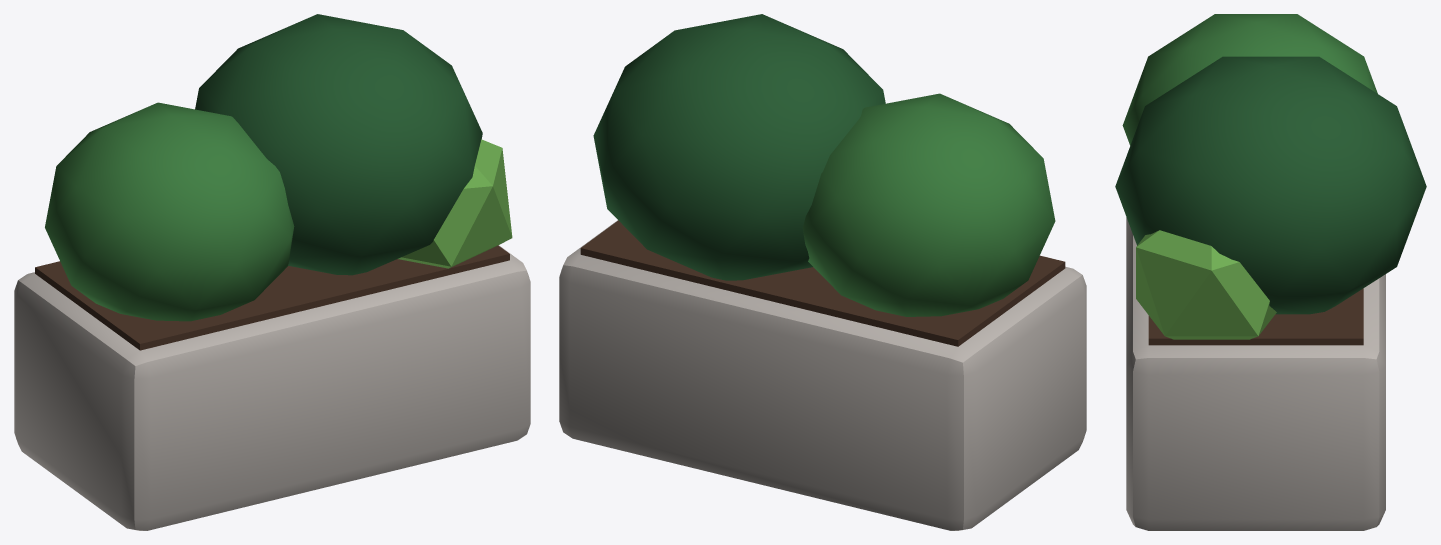
File: planter.glb
The picture shows the model from 3 angles, left to right: view 1: azimuth 30°, elevation 25°; view 2: azimuth 150°, elevation 25°; view 3: azimuth 270°, elevation 25°; orthographic projection. The views are drawn at different scales.
Visible parts, largest first — view 1: planter; view 2: planter; view 3: planter.
Part boxes in pixels (x1,y1,x2,y2): planter: [14, 14, 530, 530]; planter: [559, 14, 1086, 530]; planter: [1115, 14, 1426, 530].
Size of the model in its own units: 1.33 by 1.21 by 0.84.
Materials: 1 (1 with a texture image).
